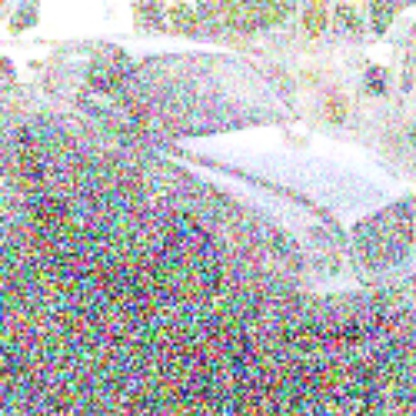Vehicle: (14, 30, 415, 382)
